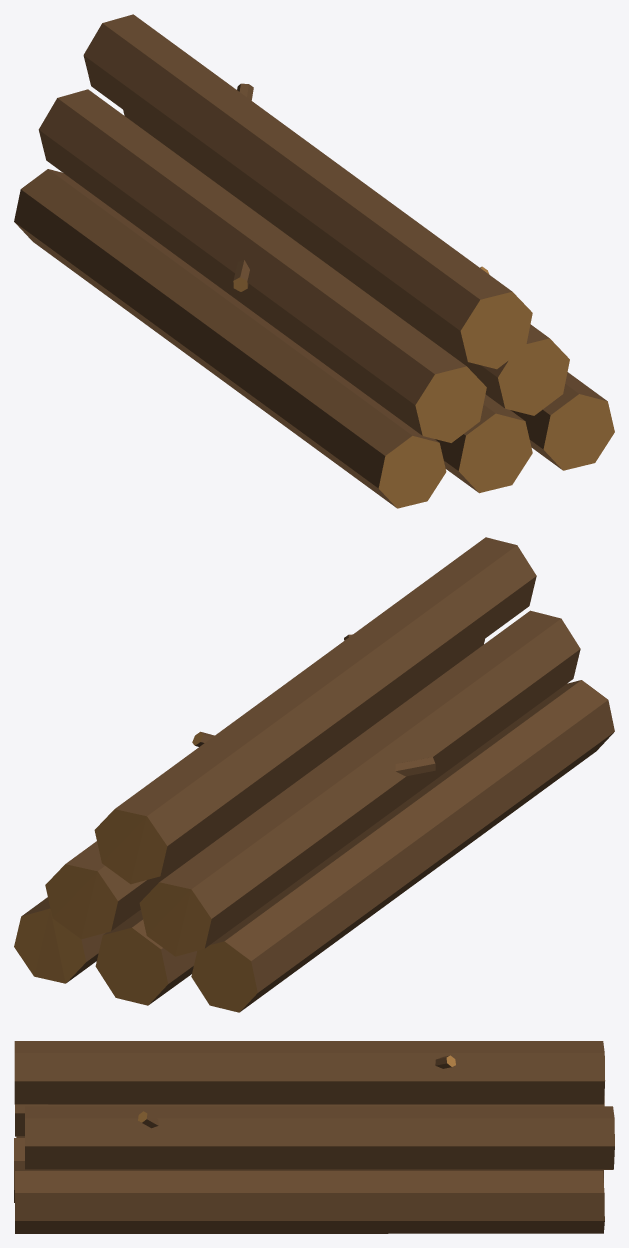
The model's file is timber.glb.
3 views of the same model, one above another, from view 1: azimuth 30°, elevation 25°; view 2: azimuth 150°, elevation 25°; view 3: azimuth 270°, elevation 25° (orthographic). The views are drawn at different scales.
Visible parts, largest first — view 1: timber; view 2: timber; view 3: timber.
Part boxes in pixels (x1=…): timber: x1=14, y1=14, x2=614, y2=508; timber: x1=14, y1=537, x2=614, y2=1012; timber: x1=14, y1=1041, x2=614, y2=1233.
Size of the model in its own units: 0.9253 by 0.732 by 2.63.
1 material, 1 textured.
